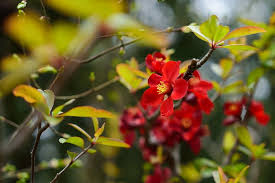flower: (100, 41, 267, 176)
